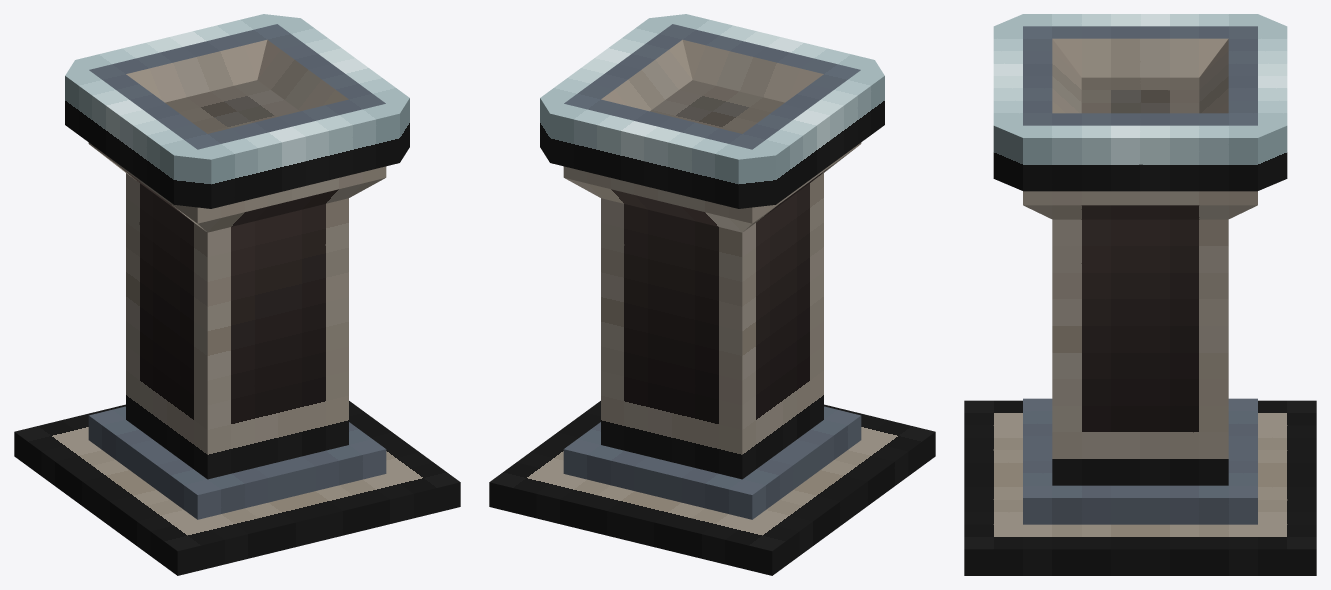
File: pedestal_square.obj
3 renders of one model, left to right at view 1: azimuth 30°, elevation 25°; view 2: azimuth 150°, elevation 25°; view 3: azimuth 270°, elevation 25°, orthographic. The views are drawn at different scales.
Parts seen in each view (by area): view 1: CALEFACTOR_PEDESTAL_Cube.007; view 2: CALEFACTOR_PEDESTAL_Cube.007; view 3: CALEFACTOR_PEDESTAL_Cube.007.
Boxes of the visible parts, bbox=[...] form: CALEFACTOR_PEDESTAL_Cube.007: bbox=[14, 14, 460, 575]; CALEFACTOR_PEDESTAL_Cube.007: bbox=[489, 14, 935, 575]; CALEFACTOR_PEDESTAL_Cube.007: bbox=[964, 14, 1316, 575].
Bounding box in the file's own units: 0.75 × 1 × 0.75.
